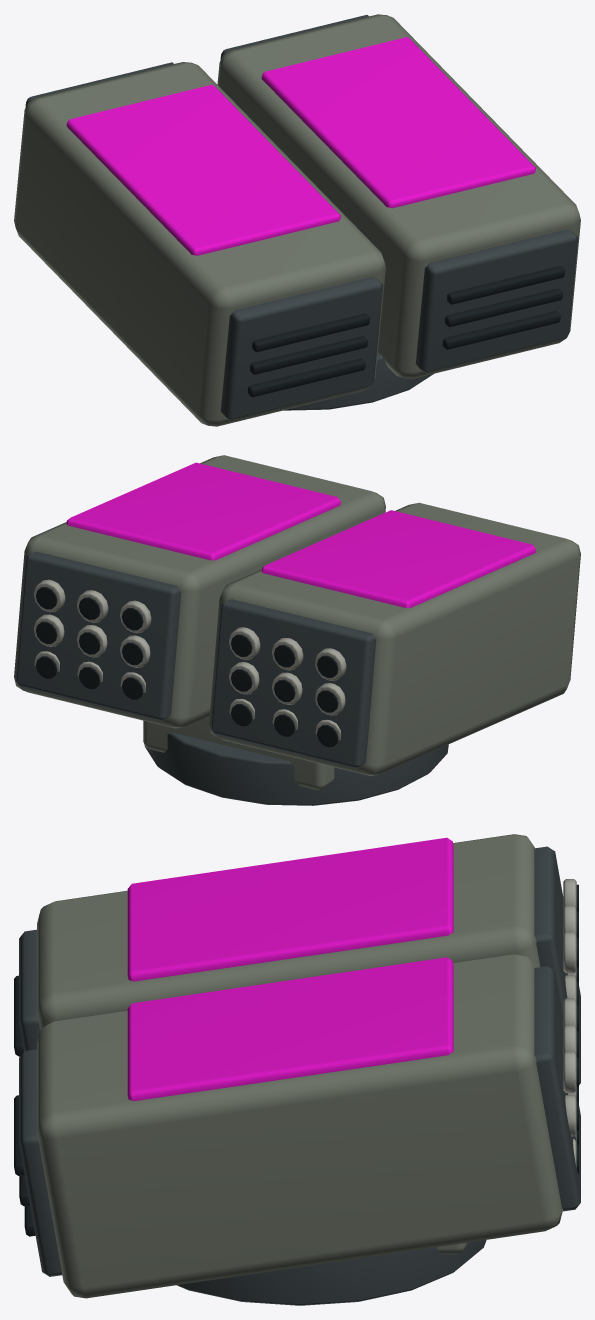
The model's file is military-truck-mlrs.glb.
The picture shows the model from 3 angles, top to bottom: view 1: azimuth 30°, elevation 25°; view 2: azimuth 150°, elevation 25°; view 3: azimuth 270°, elevation 25°; orthographic projection. The views are drawn at different scales.
Visible parts, largest first — view 1: TurretShell; view 2: TurretShell; view 3: TurretShell.
Part boxes in pixels (x1,y1,x2,y2): TurretShell: (14,14,580,426); TurretShell: (14,455,580,805); TurretShell: (14,834,580,1305).
Size of the model in its own units: 1.13 by 0.662 by 1.19.
